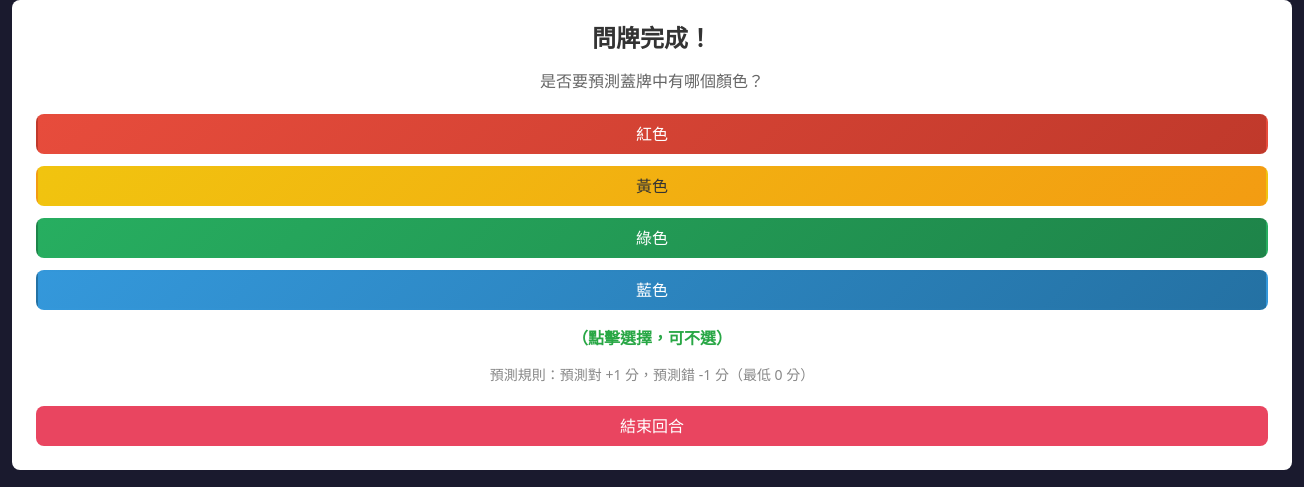
Prediction Component › selecting a color updates the selected state
Click the button "紅色" at (652, 134), box 36,114 -> 1268,154
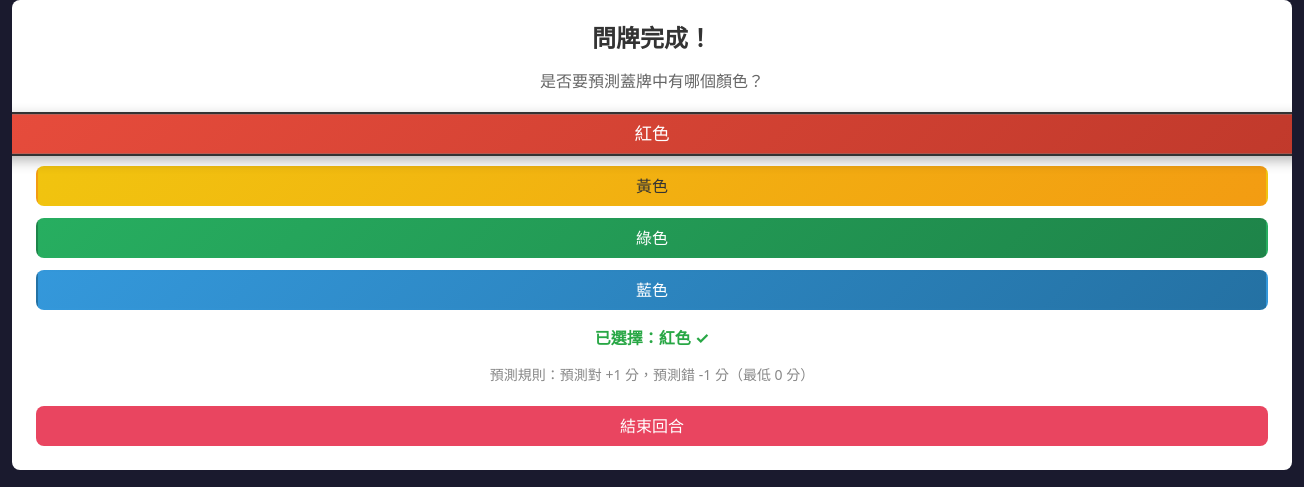
Result: the text "已選擇：紅色 ✓" is shown at 595,327 -> 709,349
